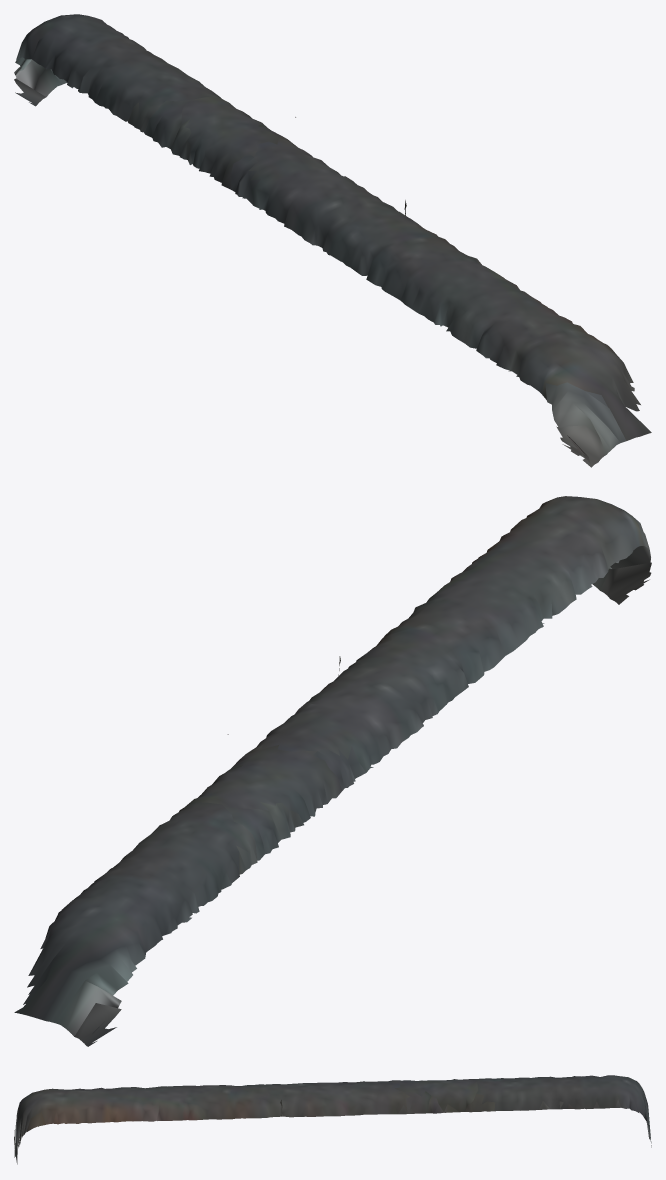
The model's file is run4_p2_c6_3.glb.
The picture shows the model from 3 angles, top to bottom: view 1: azimuth 30°, elevation 25°; view 2: azimuth 150°, elevation 25°; view 3: azimuth 270°, elevation 25°; orthographic projection. The views are drawn at different scales.
Parts seen in each view (by area): view 1: run4_p2_straight_c6_3; view 2: run4_p2_straight_c6_3; view 3: run4_p2_straight_c6_3.
Part boxes in pixels (x1=…): run4_p2_straight_c6_3: x1=14, y1=14, x2=651, y2=467; run4_p2_straight_c6_3: x1=14, y1=496, x2=651, y2=1046; run4_p2_straight_c6_3: x1=14, y1=1075, x2=651, y2=1164.
Size of the model in its own units: 2.47 by 1.9 by 15.16.
1 material, 1 textured.
